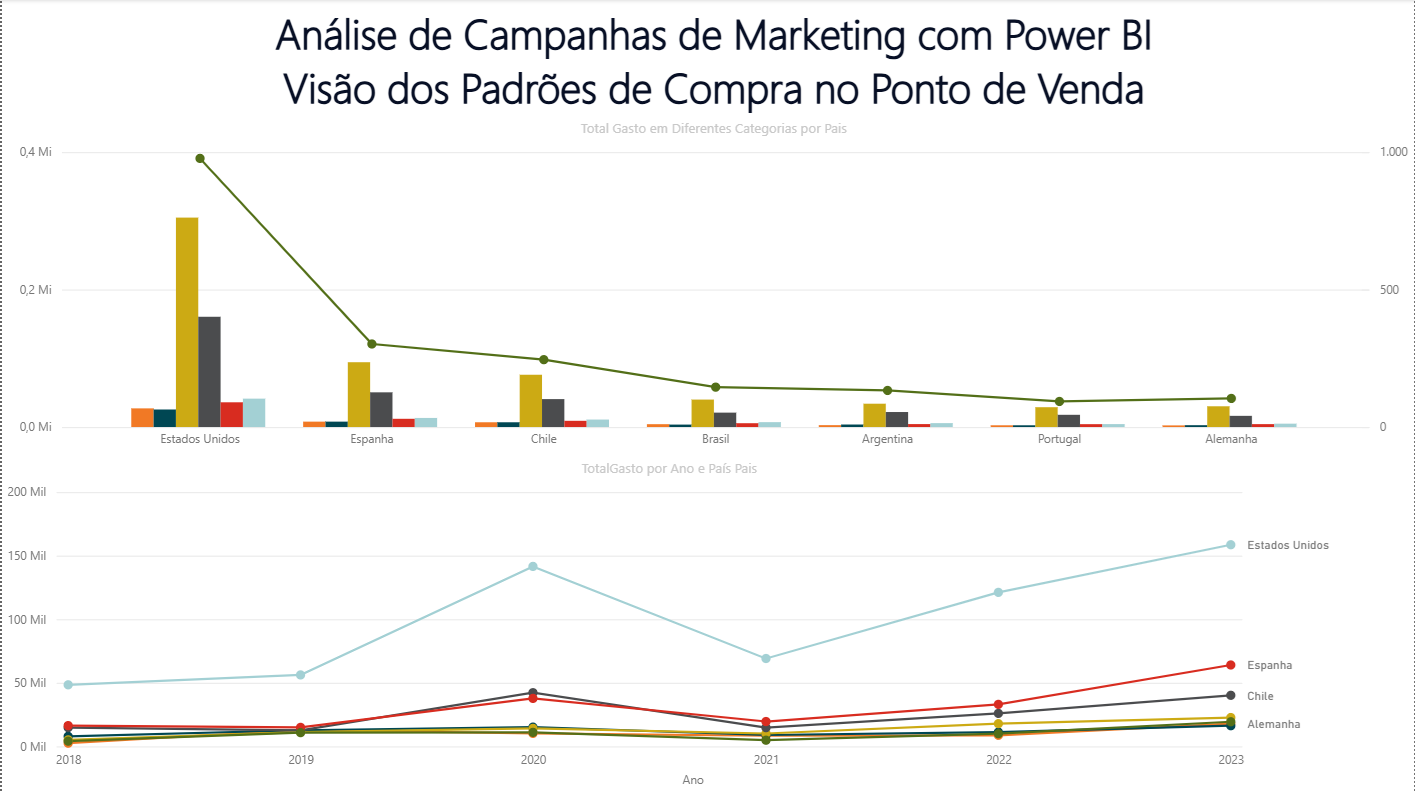

Layout of this report page (visuals, bound fields, positions):
{"tool":"powerbi","page":{"name":"Visão Pontos de Venda","canvas":[1280,720],"ordinal":3},"visuals":[{"type":"textbox","box":[10.9,0,1269.5,108.8],"z":0},{"type":"lineClusteredColumnComboChart","title":"Total Gasto em Diferentes Categorias por Pais","fields":{"Category":["DadosMarketing.Pais"],"Y":["Sum(DadosMarketing.Gasto com Alimentos)","Sum(DadosMarketing.Gasto com Brinquedos)","Sum(DadosMarketing.Gasto com Eletronicos)","Sum(DadosMarketing.Gasto com Moveis)","Sum(DadosMarketing.Gasto com Utilidades)","Sum(DadosMarketing.Gasto com Vestuario)"],"Y2":["CountNonNull(DadosMarketing.ID)"]},"box":[10.9,108.8,1269.5,308.3],"z":1000},{"type":"lineChart","title":"TotalGasto por Ano e País Pais","fields":{"Y":["DadosMarketing.TotalGasto"],"Series":["DadosMarketing.Pais"],"Category":["DadosMarketing.Data Cadastro.Variation.Hierarquia de datas.Ano"]},"box":[0,417.1,1210.5,302.9],"z":2000}]}

Visuals, with their boxes in screenshot pixels (x1, y1, x2, y2), scaled from the page's 1280x720 canvas onto the 1415x793 screenshot:
textbox: <bbox>12, 0, 1414, 120</bbox>
"Total Gasto em Diferentes Categorias por Pais" lineClusteredColumnComboChart: <bbox>12, 120, 1414, 459</bbox>
"TotalGasto por Ano e País Pais" lineChart: <bbox>0, 459, 1338, 792</bbox>
